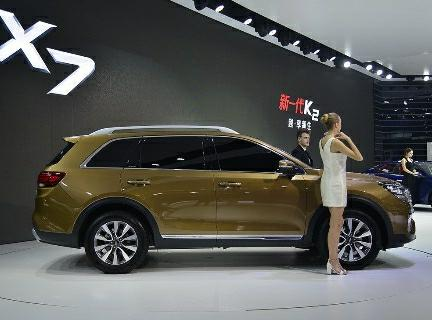car: (32, 113, 417, 283)
